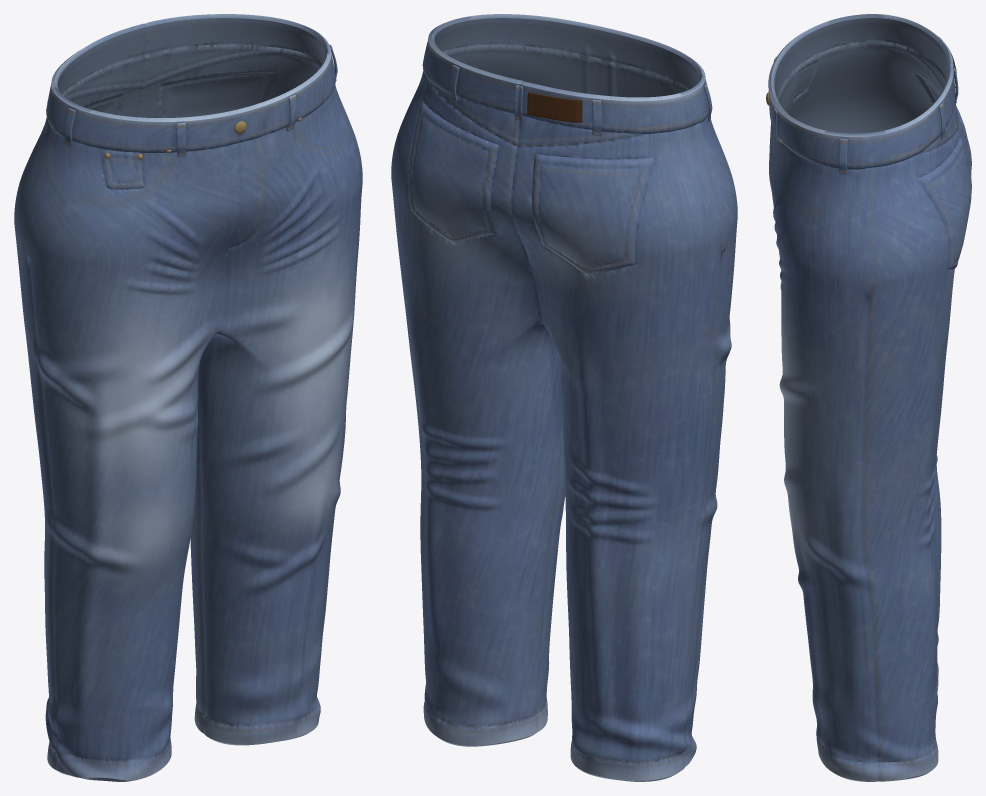
File: 27_vaquero_mom_pbr.glb
3 views of the same model, side by side, from view 1: azimuth 30°, elevation 25°; view 2: azimuth 150°, elevation 25°; view 3: azimuth 270°, elevation 25° (orthographic). The views are drawn at different scales.
Visible parts, largest first — view 1: Vaquero PBR; view 2: Vaquero PBR, Etiqueta de piel; view 3: Vaquero PBR.
Boxes of the visible parts, bbox=[...] form: Vaquero PBR: bbox=[14, 14, 362, 781]; Vaquero PBR: bbox=[391, 14, 737, 781]; Etiqueta de piel: bbox=[527, 92, 582, 122]; Vaquero PBR: bbox=[768, 14, 971, 781].
Bounding box in the file's own units: 0.4698 × 0.9619 × 0.2706.
Materials: 3 (1 with a texture image).
